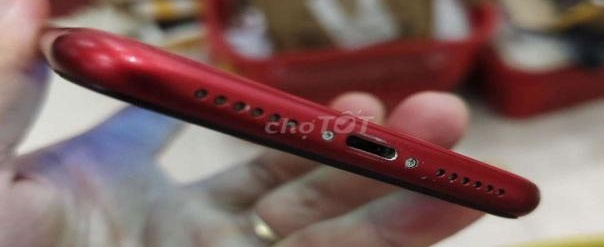scratch: (282, 96, 337, 148), (390, 135, 430, 184)
